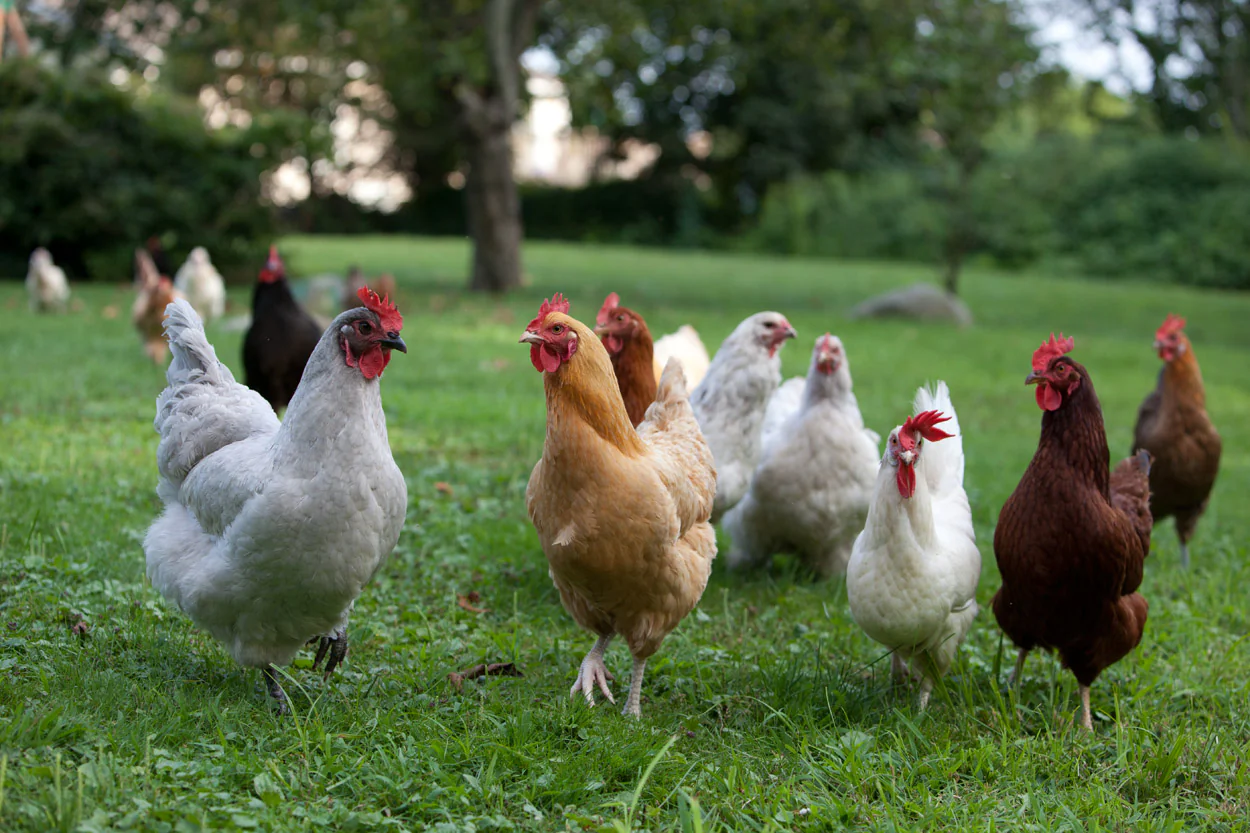Healthy: (136, 274, 422, 730), (511, 292, 734, 730), (983, 329, 1164, 745), (833, 366, 995, 733), (742, 317, 890, 597), (1117, 298, 1231, 565)
